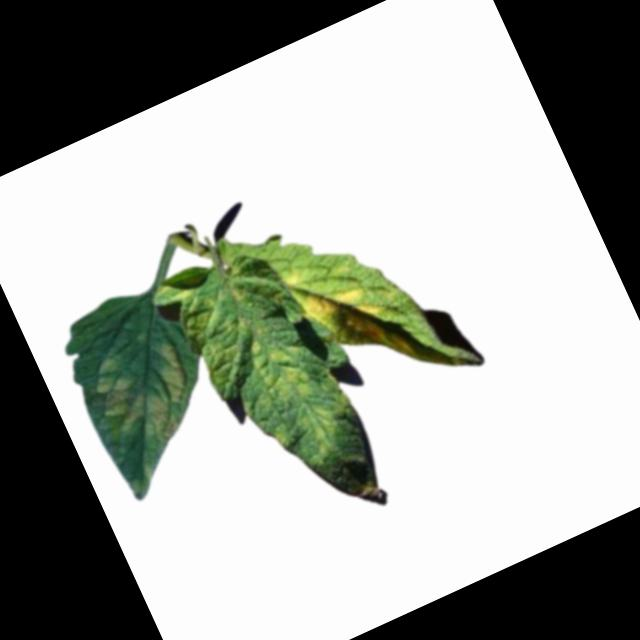Leaf_Mold: (74, 325, 208, 462), (239, 321, 350, 472), (296, 263, 416, 393), (168, 277, 269, 396), (280, 264, 309, 292)
